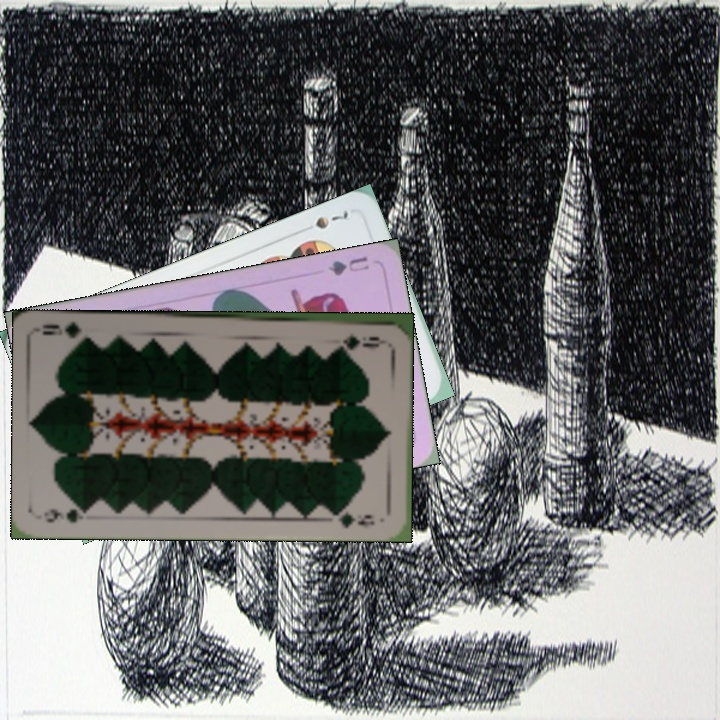G9: (39, 503, 95, 525), (339, 331, 387, 347)
GU: (324, 251, 372, 278)
S7: (311, 205, 351, 232)
